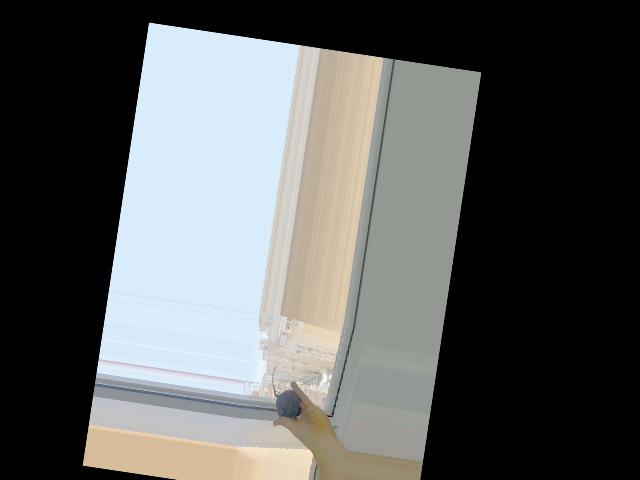beet: (266, 364, 307, 419)
